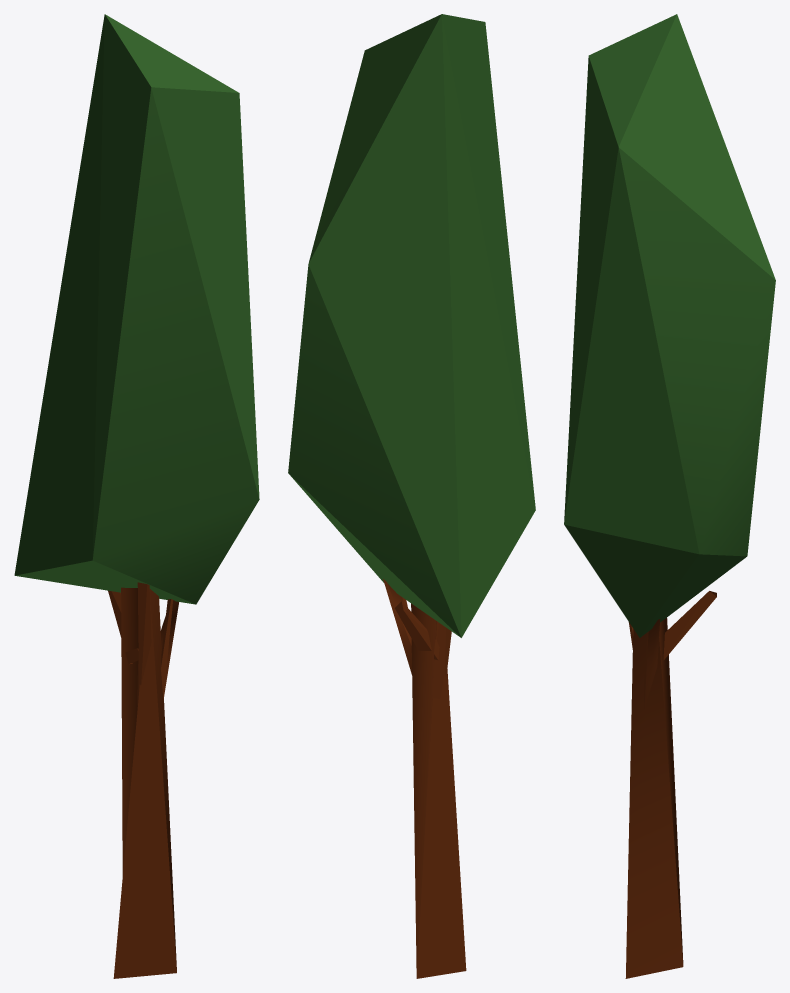
File: Tree4_med.glb
3 views of the same model, side by side, from view 1: azimuth 30°, elevation 25°; view 2: azimuth 150°, elevation 25°; view 3: azimuth 270°, elevation 25° (orthographic). The views are drawn at different scales.
Visible parts, largest first — view 1: Tree_temp_climate_004, Tree_temp_climate_004.001; view 2: Tree_temp_climate_004, Tree_temp_climate_004.001; view 3: Tree_temp_climate_004, Tree_temp_climate_004.001.
Boxes of the visible parts, <box> form: Tree_temp_climate_004: <box>14,14,259,604</box>; Tree_temp_climate_004.001: <box>108,582,178,978</box>; Tree_temp_climate_004: <box>288,14,535,637</box>; Tree_temp_climate_004.001: <box>383,579,466,978</box>; Tree_temp_climate_004: <box>564,14,775,637</box>; Tree_temp_climate_004.001: <box>625,591,716,978</box>.
Bounding box in the file's own units: 1.36 × 6.37 × 1.3.
